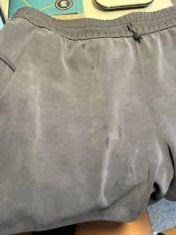oil: (113, 123, 125, 139), (101, 137, 111, 151), (88, 61, 99, 73), (81, 42, 91, 48), (99, 120, 106, 128)
